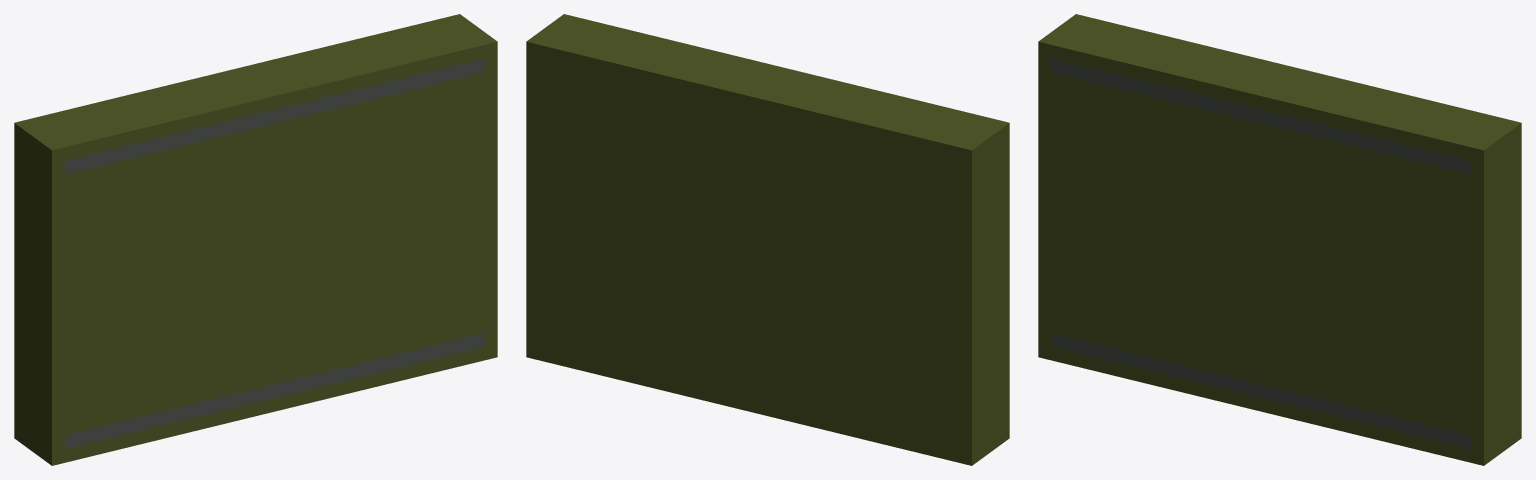
Rendered from apc_applique.glb.
The picture shows the model from 3 angles, left to right: view 1: azimuth 30°, elevation 25°; view 2: azimuth 150°, elevation 25°; view 3: azimuth 330°, elevation 25°; orthographic projection.
Visible parts, largest first — view 1: body:compound; view 2: body:compound; view 3: body:compound.
Boxes of the visible parts, x1=… form: body:compound: x1=14, y1=14, x2=497, y2=465; body:compound: x1=526, y1=14, x2=1009, y2=465; body:compound: x1=1038, y1=14, x2=1521, y2=465.
Bounding box in the file's own units: 1.06 × 0.7188 × 0.1562.
